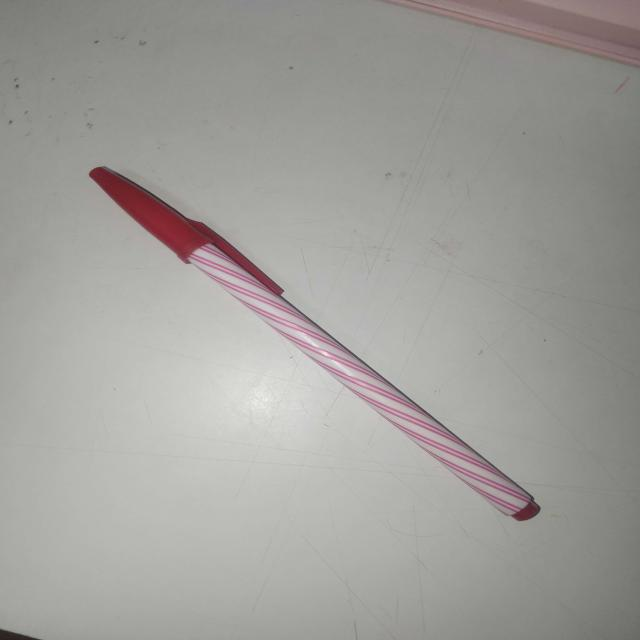pen_pencil: (54, 145, 578, 572)
